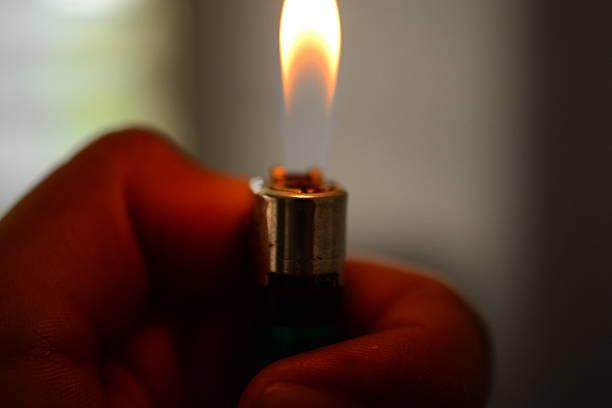Fire: (278, 0, 350, 125)
